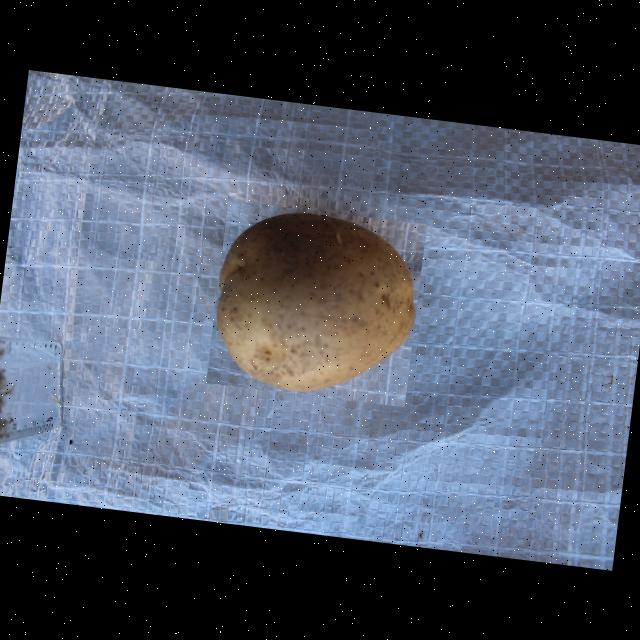Diseased-fungal potato: (206, 200, 427, 407)
